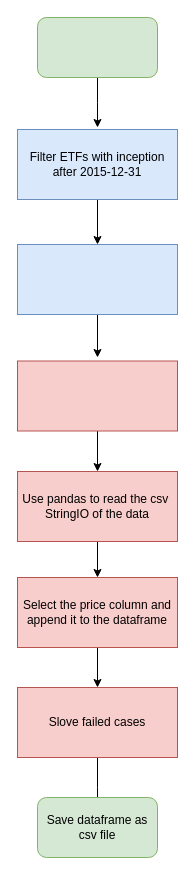
Some shapes in this 195 by 875 pixel diagram are drawn without their labels. The centre of each missing label's shape, as x and y in pixels:
Obtain the price of ETFs using requests(need to deal with cookie): (x=97, y=395)
Obtain the qualified ETF symbols: (x=97, y=279)
Read raw csv file of ETF lists: (x=97, y=47)
